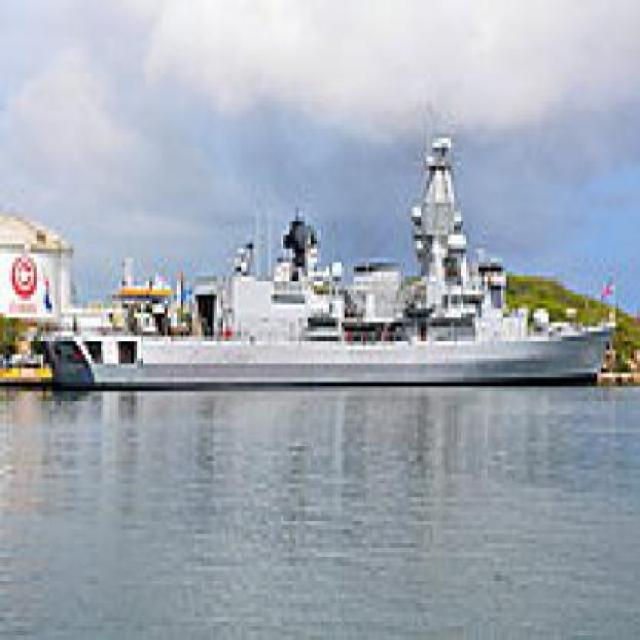warship2: (31, 134, 611, 393)
